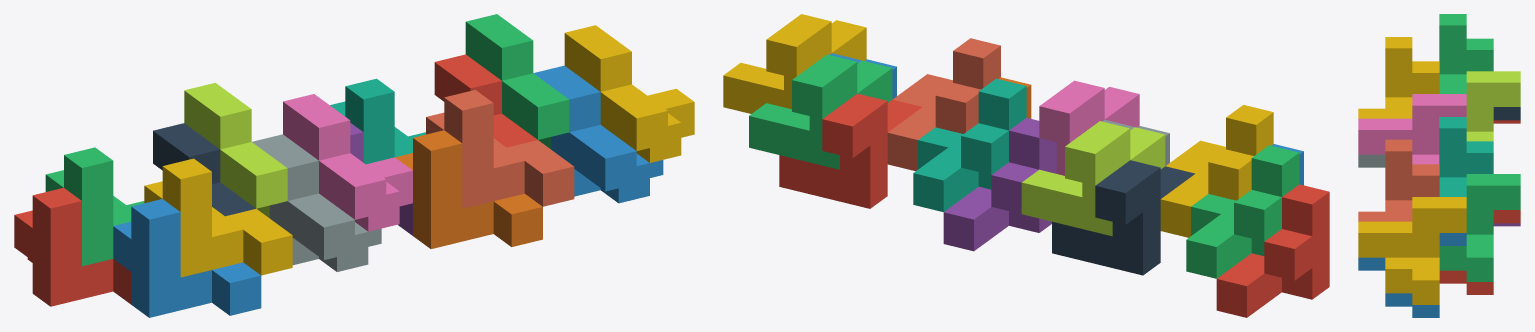
File: tiling.obj
The picture shows the model from 3 angles, left to right: view 1: azimuth 30°, elevation 25°; view 2: azimuth 150°, elevation 25°; view 3: azimuth 270°, elevation 25°; orthographic projection. The views are drawn at different scales.
Visible parts, largest first — view 1: copy_1_domain_2, copy_1_domain_4, copy_1_domain_8, copy_1_domain_6, copy_2_domain_8, copy_2_domain_4, copy_1_domain_1, copy_2_domain_2, copy_2_domain_6, copy_2_domain_7, copy_2_domain_3, copy_1_domain_3 (+4 smaller); view 2: copy_1_domain_1, copy_2_domain_1, copy_2_domain_5, copy_1_domain_3, copy_1_domain_7, copy_2_domain_3, copy_2_domain_7, copy_2_domain_8, copy_1_domain_4, copy_1_domain_8, copy_1_domain_5, copy_2_domain_4; view 3: copy_2_domain_8, copy_2_domain_7, copy_2_domain_4, copy_1_domain_8, copy_1_domain_4, copy_1_domain_3, copy_1_domain_7, copy_2_domain_3, copy_2_domain_6, copy_2_domain_5, copy_2_domain_1, copy_2_domain_2.
Part boxes in pixels (left/top/right/bottom): copy_1_domain_2: left=113, top=199, right=261, bottom=317; copy_1_domain_4: left=144, top=158, right=292, bottom=277; copy_1_domain_8: left=426, top=90, right=574, bottom=208; copy_1_domain_6: left=395, top=130, right=542, bottom=248; copy_2_domain_8: left=564, top=25, right=694, bottom=162; copy_2_domain_4: left=283, top=94, right=412, bottom=231; copy_1_domain_1: left=14, top=187, right=131, bottom=306; copy_2_domain_2: left=252, top=134, right=381, bottom=271; copy_2_domain_6: left=533, top=65, right=663, bottom=203; copy_2_domain_7: left=465, top=14, right=569, bottom=149; copy_2_domain_3: left=184, top=82, right=287, bottom=217; copy_1_domain_3: left=45, top=147, right=144, bottom=266; copy_1_domain_1: left=1216, top=184, right=1329, bottom=317; copy_2_domain_1: left=1052, top=160, right=1194, bottom=275; copy_2_domain_5: left=779, top=93, right=922, bottom=208; copy_1_domain_3: left=1186, top=145, right=1299, bottom=278; copy_1_domain_7: left=913, top=78, right=1026, bottom=211; copy_2_domain_3: left=1021, top=121, right=1165, bottom=236; copy_2_domain_7: left=749, top=54, right=892, bottom=169; copy_2_domain_8: left=723, top=14, right=866, bottom=113; copy_1_domain_4: left=1160, top=105, right=1273, bottom=237; copy_1_domain_8: left=887, top=38, right=1000, bottom=171; copy_1_domain_5: left=943, top=117, right=1056, bottom=251; copy_2_domain_4: left=1039, top=80, right=1139, bottom=175; copy_2_domain_8: left=1358, top=197, right=1466, bottom=304; copy_2_domain_7: left=1439, top=174, right=1520, bottom=281; copy_2_domain_4: left=1358, top=94, right=1466, bottom=164; copy_1_domain_8: left=1358, top=139, right=1439, bottom=221; copy_1_domain_4: left=1358, top=37, right=1439, bottom=118; copy_1_domain_3: left=1439, top=14, right=1493, bottom=93; copy_1_domain_7: left=1439, top=117, right=1493, bottom=196; copy_2_domain_3: left=1466, top=71, right=1520, bottom=141; copy_2_domain_6: left=1358, top=233, right=1466, bottom=317; copy_2_domain_5: left=1439, top=210, right=1520, bottom=294; copy_2_domain_1: left=1493, top=107, right=1520, bottom=120; copy_2_domain_2: left=1358, top=154, right=1385, bottom=167.
Size of the model in its own units: 20 by 4 by 6.
